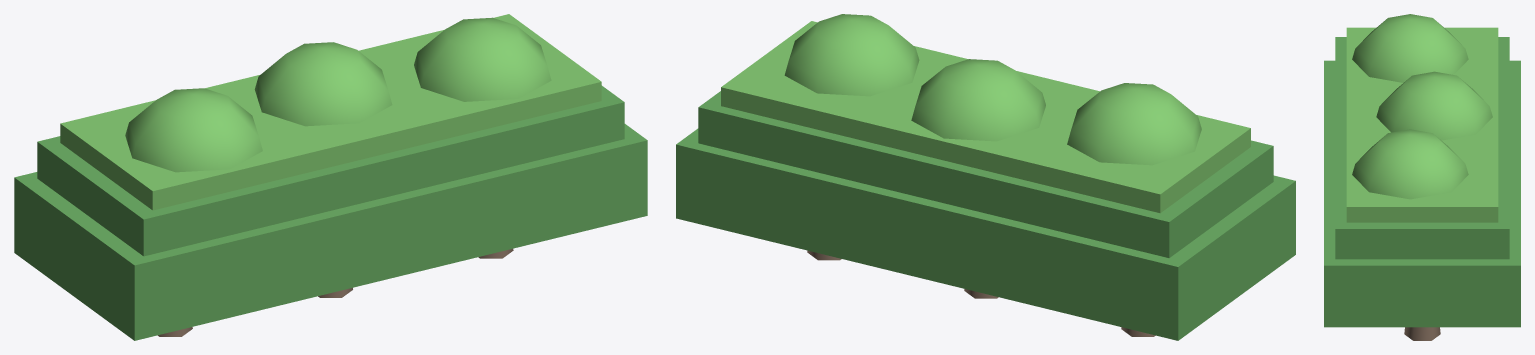
File: tea_hedge.glb
3 renders of one model, left to right at view 1: azimuth 30°, elevation 25°; view 2: azimuth 150°, elevation 25°; view 3: azimuth 270°, elevation 25°, orthographic. The views are drawn at different scales.
Visible parts, largest first — view 1: Lower_Canopy_Block_Node, Mid_Canopy_Contour_Node, Plucking_Table_Flush_Node, Flush_Crown_0_Node, Flush_Crown_1_Node, Flush_Crown_2_Node; view 2: Lower_Canopy_Block_Node, Plucking_Table_Flush_Node, Mid_Canopy_Contour_Node, Flush_Crown_1_Node, Flush_Crown_2_Node, Flush_Crown_0_Node; view 3: Lower_Canopy_Block_Node, Plucking_Table_Flush_Node, Mid_Canopy_Contour_Node, Flush_Crown_2_Node, Flush_Crown_1_Node, Flush_Crown_0_Node, Trunk_2_Node.
Part boxes in pixels (x1,y1,x2,y2): Lower_Canopy_Block_Node: [14, 124, 647, 340]; Mid_Canopy_Contour_Node: [37, 85, 624, 256]; Plucking_Table_Flush_Node: [60, 14, 601, 210]; Flush_Crown_0_Node: [125, 88, 262, 172]; Flush_Crown_1_Node: [254, 42, 392, 126]; Flush_Crown_2_Node: [414, 17, 551, 101]; Lower_Canopy_Block_Node: [676, 128, 1295, 340]; Plucking_Table_Flush_Node: [721, 21, 1250, 213]; Mid_Canopy_Contour_Node: [698, 91, 1273, 257]; Flush_Crown_1_Node: [911, 59, 1045, 141]; Flush_Crown_2_Node: [784, 14, 919, 96]; Flush_Crown_0_Node: [1067, 83, 1201, 165]; Lower_Canopy_Block_Node: [1324, 60, 1520, 327]; Plucking_Table_Flush_Node: [1346, 27, 1498, 222]; Mid_Canopy_Contour_Node: [1335, 37, 1509, 259]; Flush_Crown_2_Node: [1352, 129, 1468, 199]; Flush_Crown_1_Node: [1376, 71, 1492, 140]; Flush_Crown_0_Node: [1352, 14, 1468, 82]; Trunk_2_Node: [1404, 327, 1440, 340].
Bounding box in the file's own units: 3.2 × 1.4 × 1.3.
